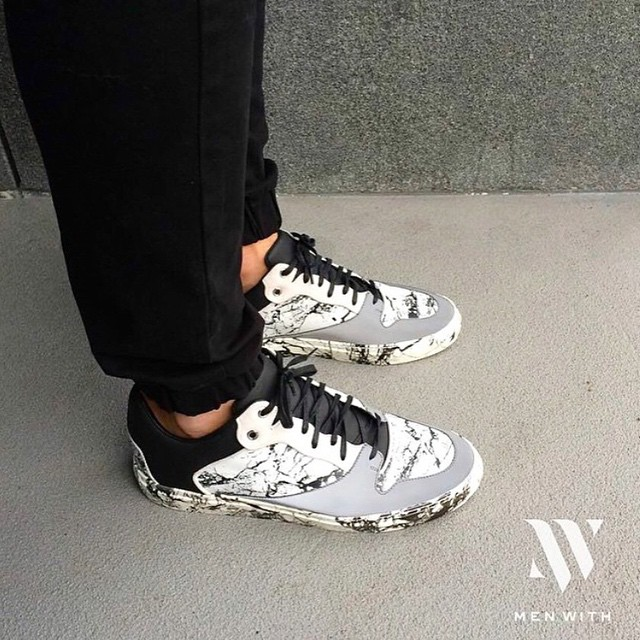sneaker: (115, 328, 497, 543), (196, 193, 476, 373)
